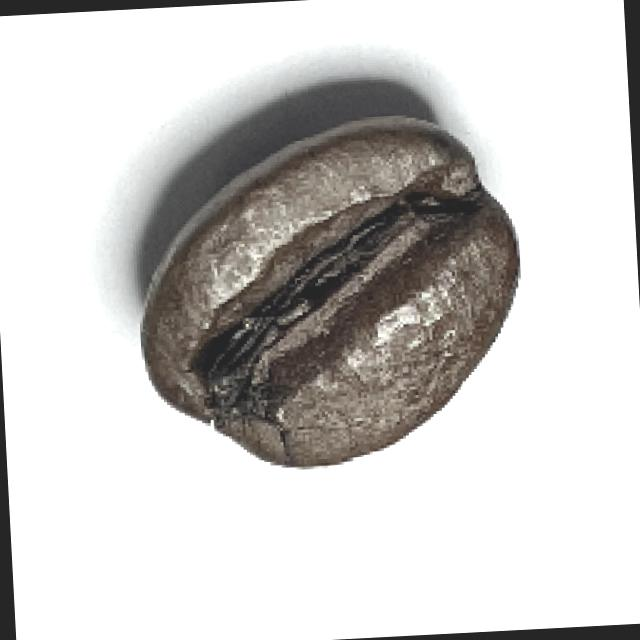bean: (128, 108, 533, 478)
